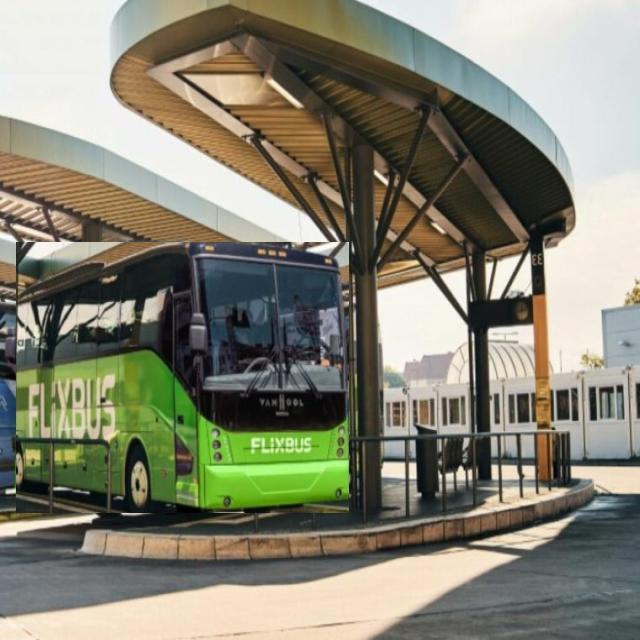bus: (16, 242, 349, 513)
